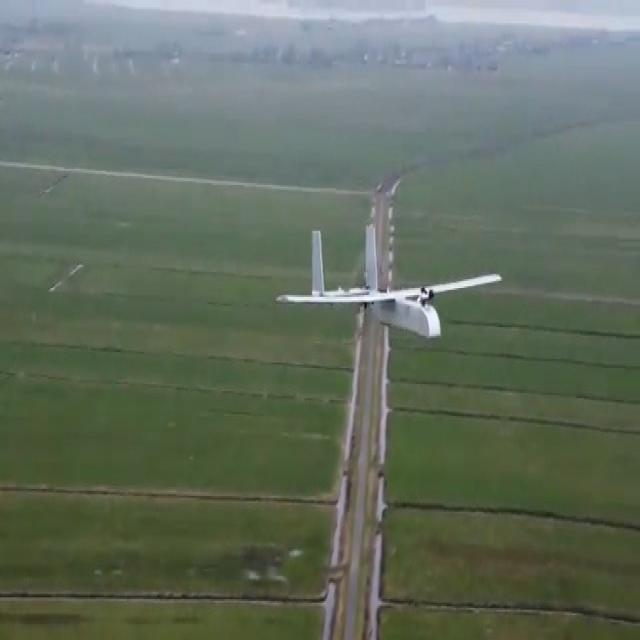iha: (267, 220, 502, 364)
